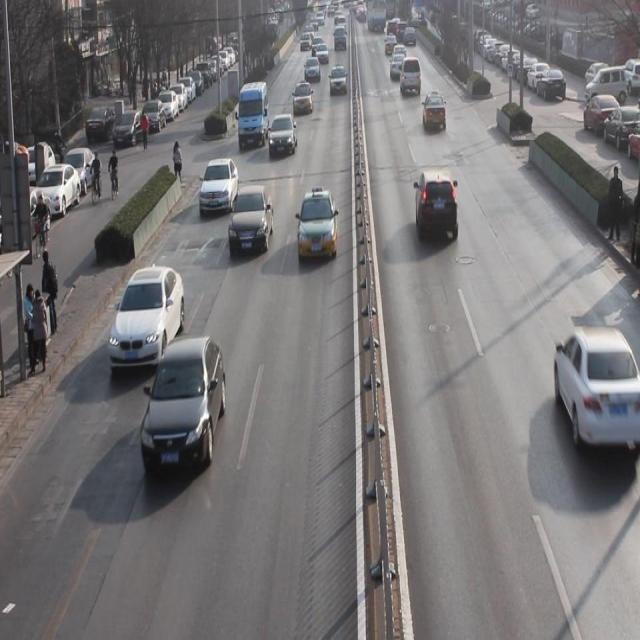car: (141, 340, 225, 478), (553, 326, 630, 454), (109, 268, 186, 366), (416, 169, 459, 243), (298, 189, 338, 266), (230, 186, 273, 257), (198, 157, 239, 214), (268, 113, 299, 160), (424, 93, 446, 131), (292, 79, 314, 115), (329, 64, 348, 98), (304, 54, 322, 83)
truck: (237, 80, 269, 148), (399, 57, 422, 96)
